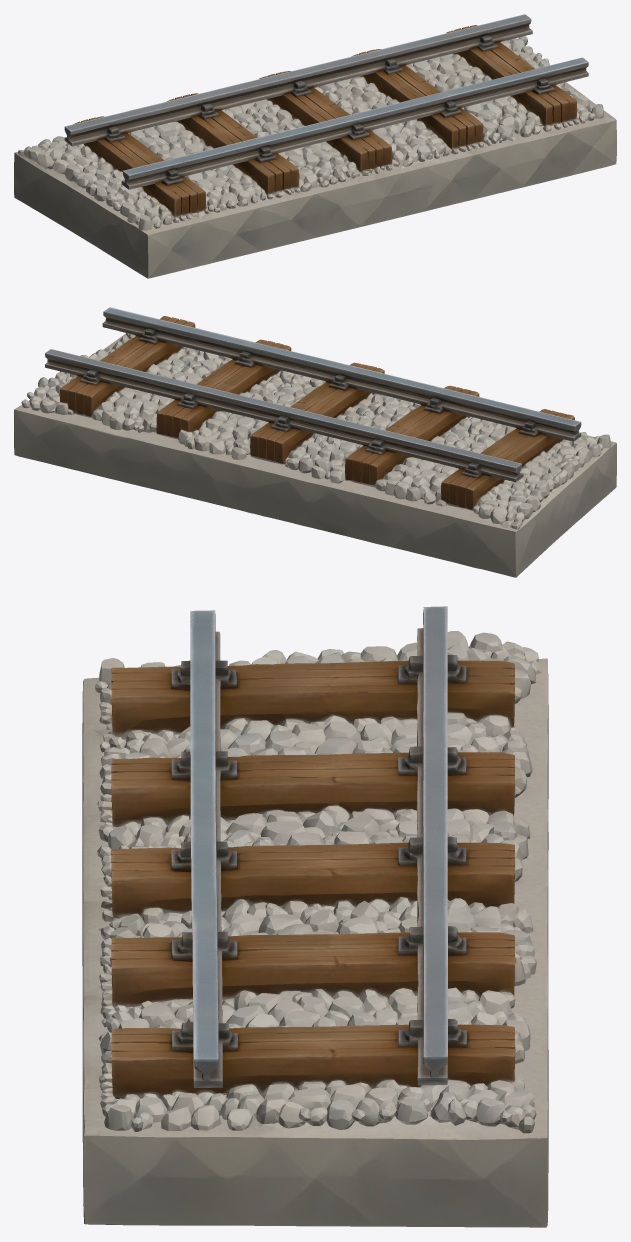
3 views of the same model, one above another, from view 1: azimuth 30°, elevation 25°; view 2: azimuth 150°, elevation 25°; view 3: azimuth 270°, elevation 25° (orthographic). The views are drawn at different scales.
Parts seen in each view (by area): view 1: model; view 2: model; view 3: model.
Part boxes in pixels (x1,y1,x2,y2): model: [14, 14, 616, 278]; model: [14, 307, 616, 577]; model: [82, 606, 548, 1227].
Bounding box in the file's own units: 1.9 × 0.3124 × 0.7801.
Materials: 1 (1 with a texture image).
